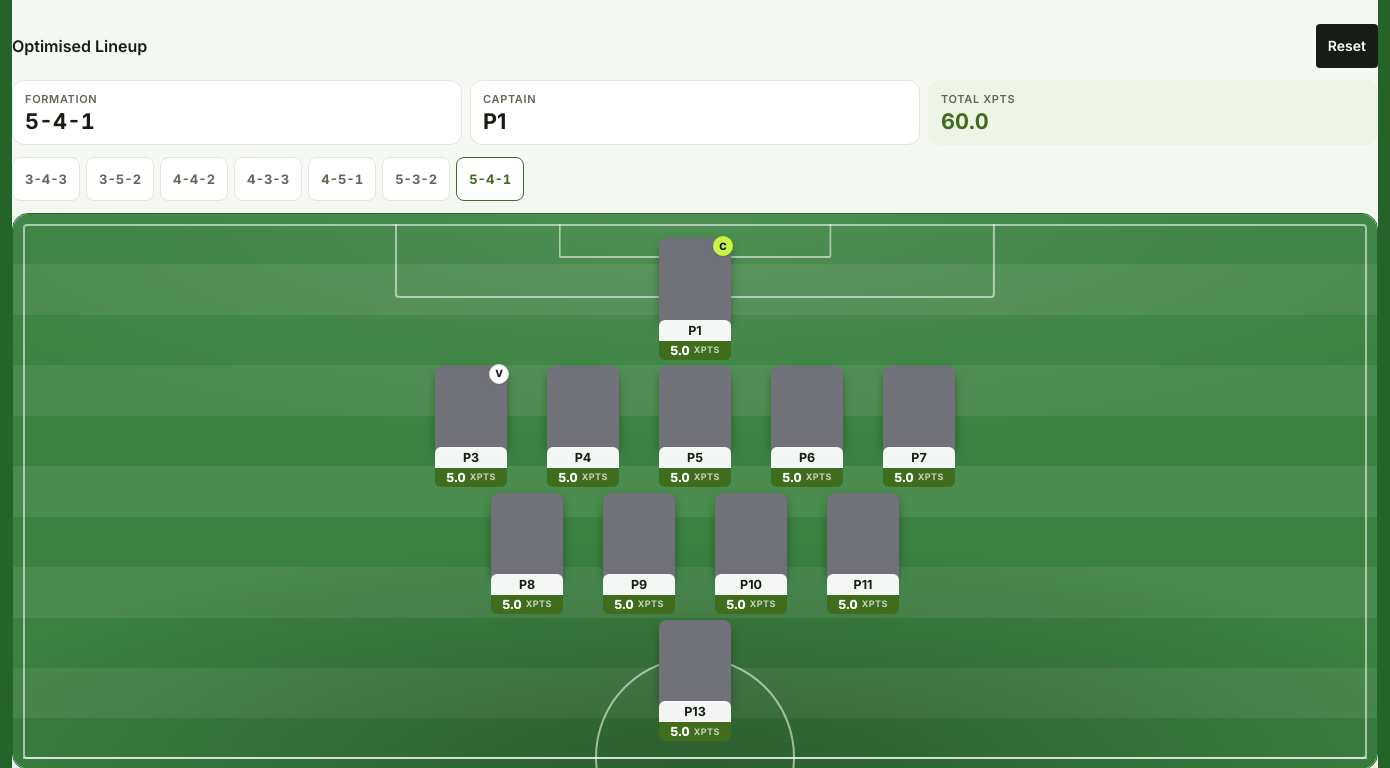
Test: Phase 72: LineupTab › PITCH-01: pitch surface, bench tray and formation switcher › C / VC pills exist only under the armed card
Step 1. Click the button with test id "pitch-card-body-" → point(695, 299), box [645,238,745,360]
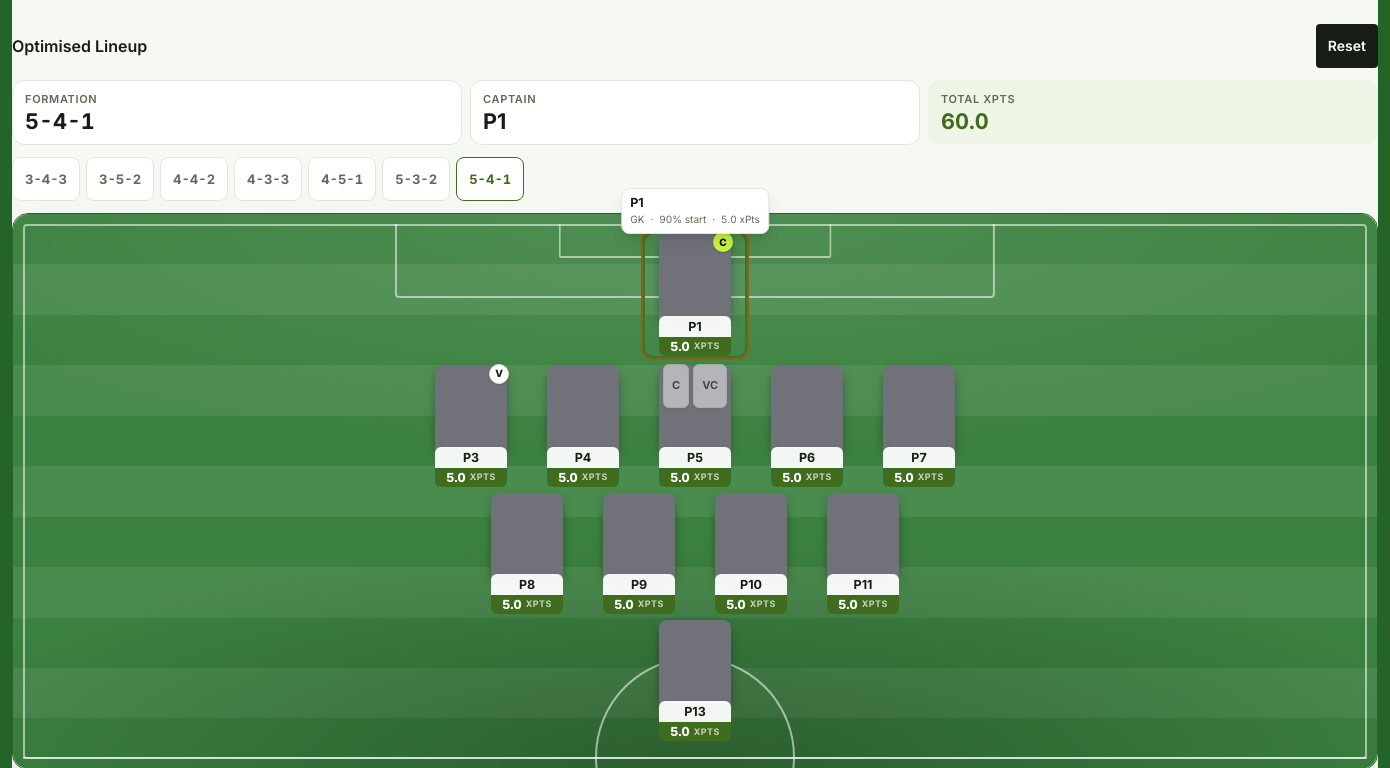
Expected: the button with test id "set-c-" is shown, [663,364,689,408]
